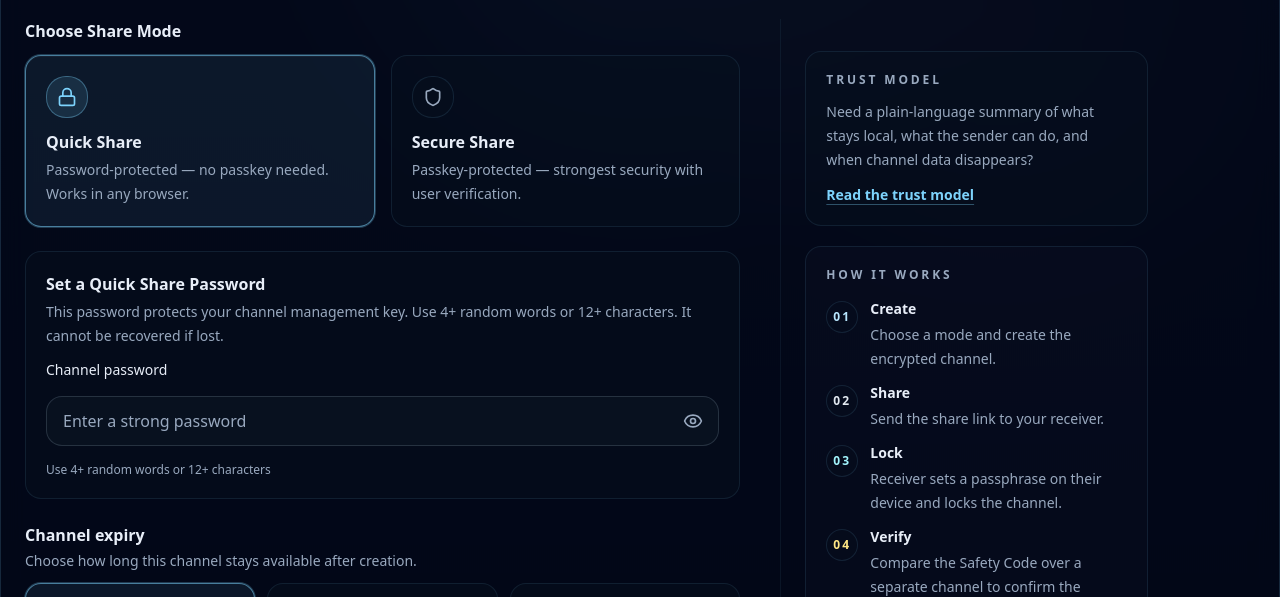
Scenario: CreatePage integration › returns to the form when the create another confirmation is accepted
Click the button with test id "mode-card-secure" at (433,97), box [391, 55, 740, 227]
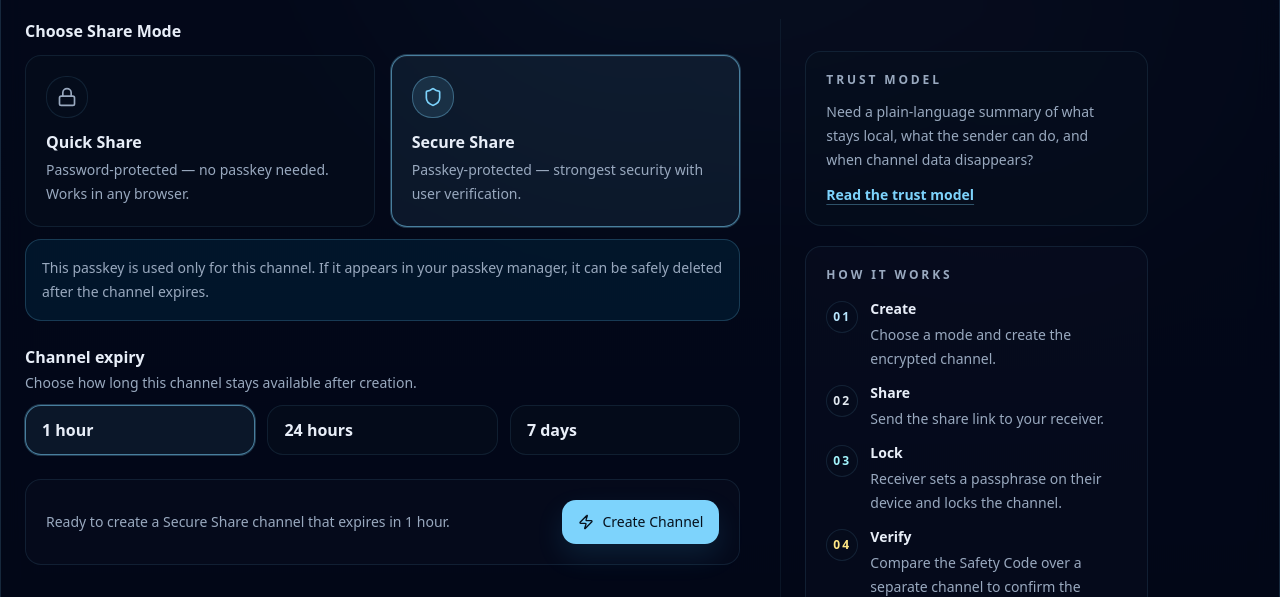
Click the button with test id "create-submit-button" at (641,522), box [562, 500, 719, 544]
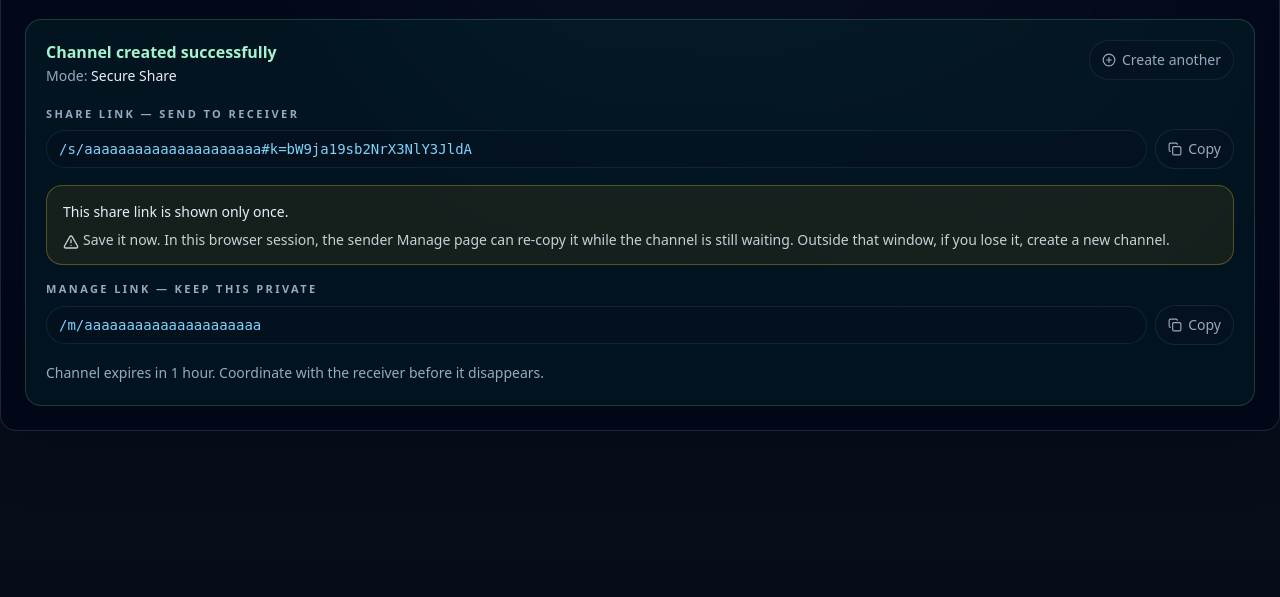
Now the element with test id "create-success-summary" is shown
Click the button with test id "create-another-button" at (1161,60), box [1089, 40, 1234, 80]
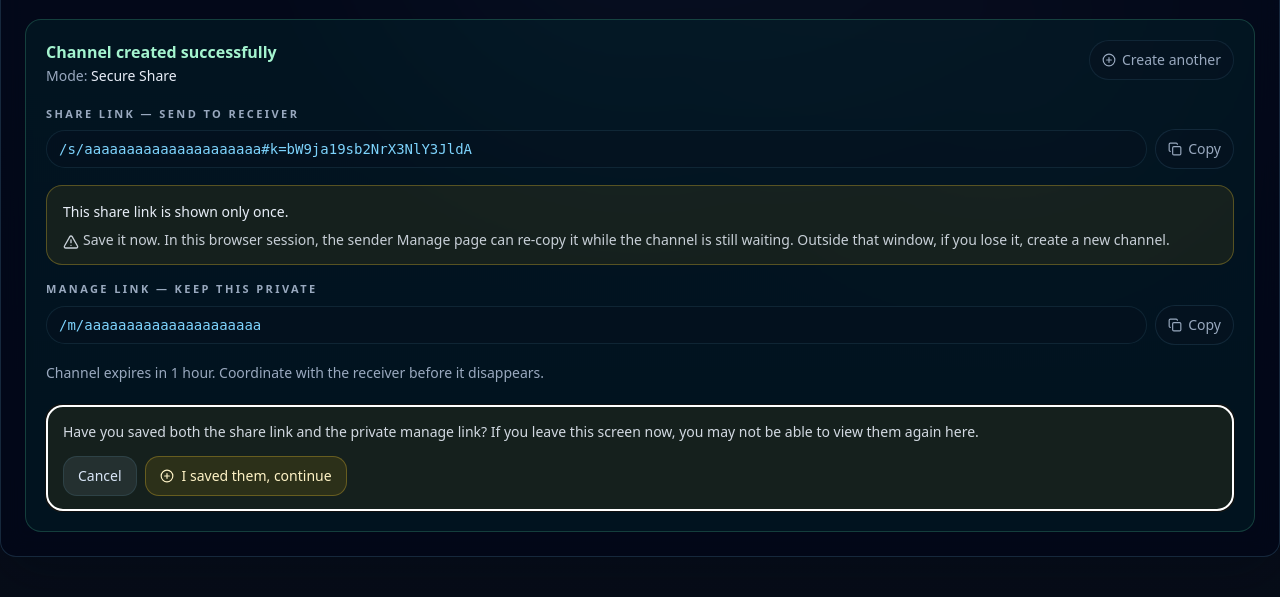
Click the button with test id "create-another-confirm-continue" at (246,476), box [145, 456, 347, 496]
(page scrolled)
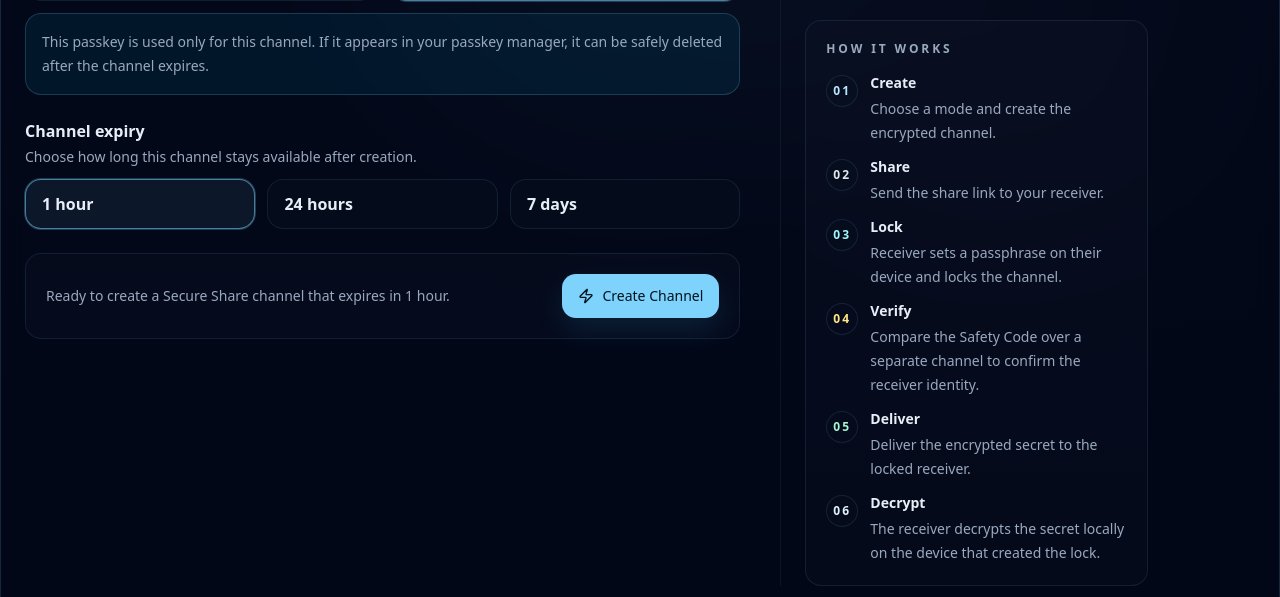
Now the element with test id "how-it-works" is shown, box [805, 20, 1148, 586]
Now the element with test id "create-success-summary" is gone
